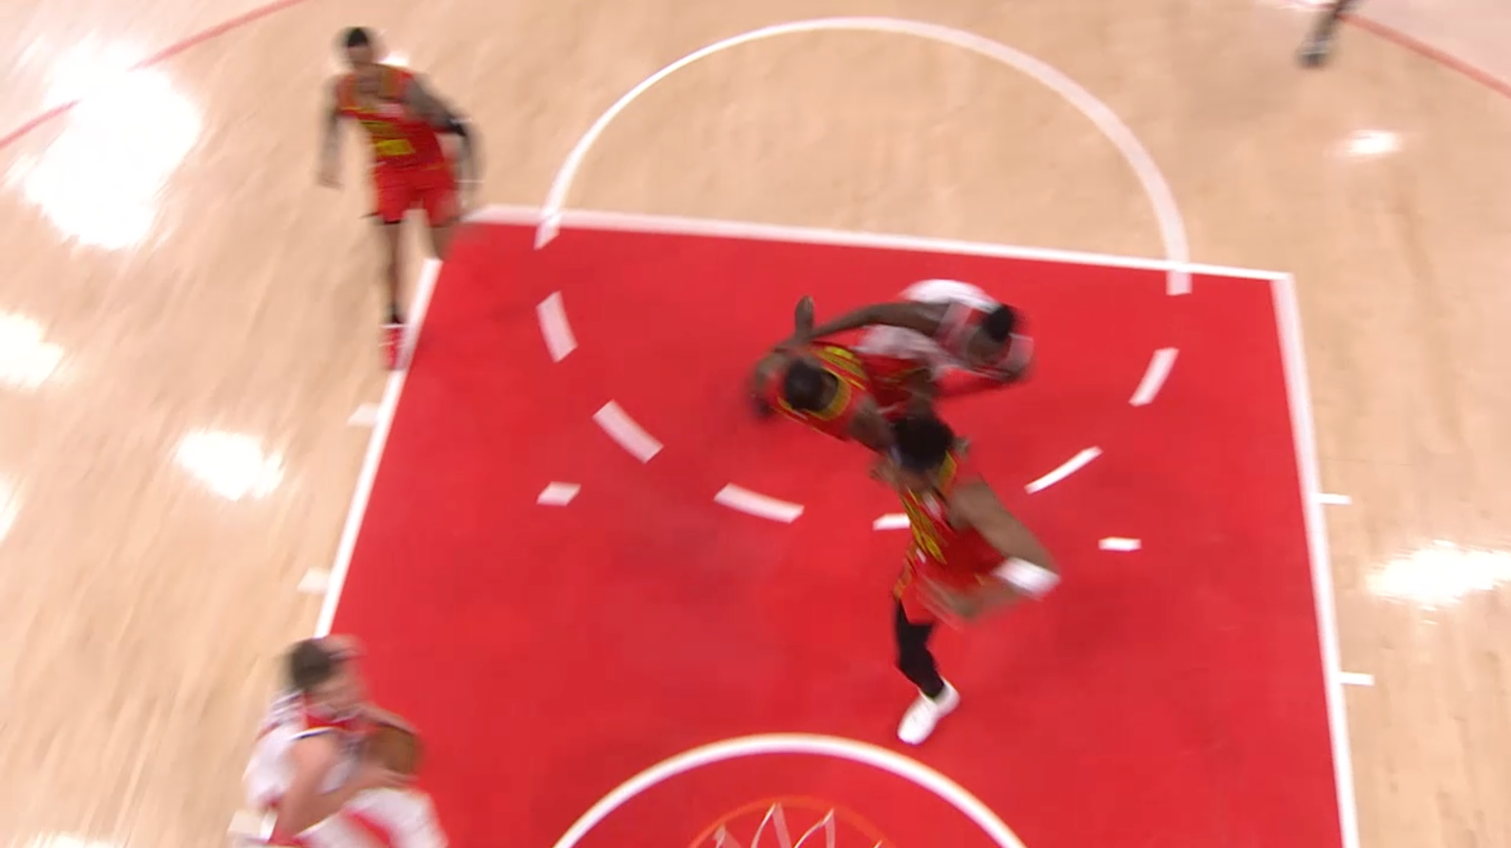Foul: (761, 268, 1022, 429)
